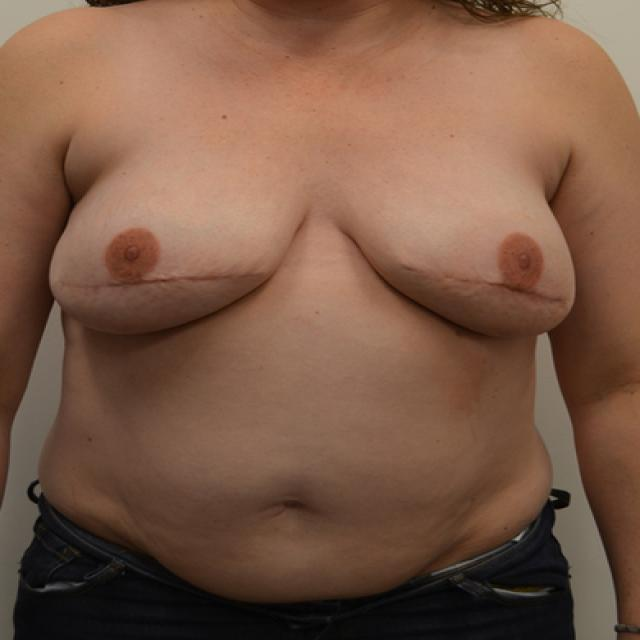Seno herido: (42, 143, 320, 347), (324, 143, 584, 351)
